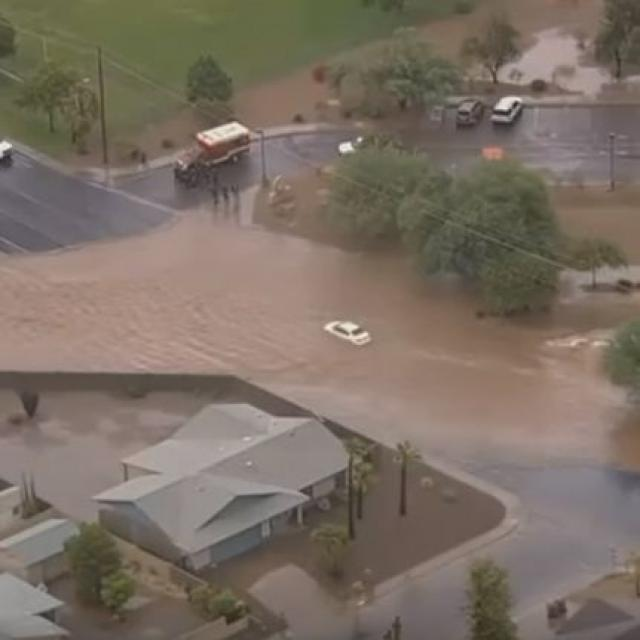flood: (0, 217, 640, 492), (0, 412, 186, 521), (498, 28, 610, 93)
house: (84, 398, 359, 574), (0, 518, 82, 586), (0, 567, 73, 640)
